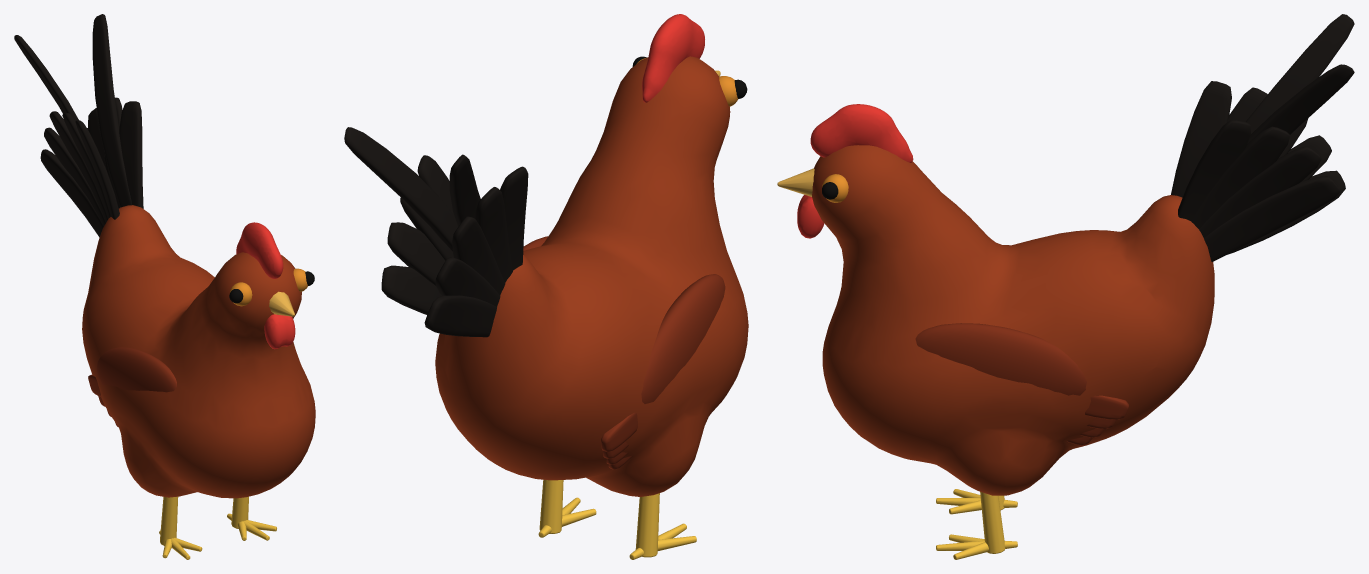
File: rooster_stand.fbx
3 renders of one model, left to right at view 1: azimuth 30°, elevation 25°; view 2: azimuth 150°, elevation 25°; view 3: azimuth 270°, elevation 25°, orthographic. The views are drawn at different scales.
Visible parts, largest first — view 1: rooster_stand; view 2: rooster_stand; view 3: rooster_stand.
Part boxes in pixels (bbox=[...]): rooster_stand: bbox=[14, 14, 315, 559]; rooster_stand: bbox=[344, 14, 748, 559]; rooster_stand: bbox=[777, 14, 1354, 559].
Bounding box in the file's own units: 0.2611 × 0.6657 × 0.7107.
